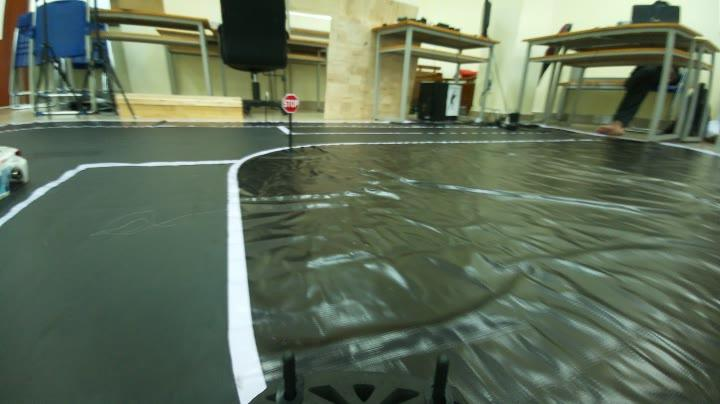stop: (278, 90, 304, 116)
